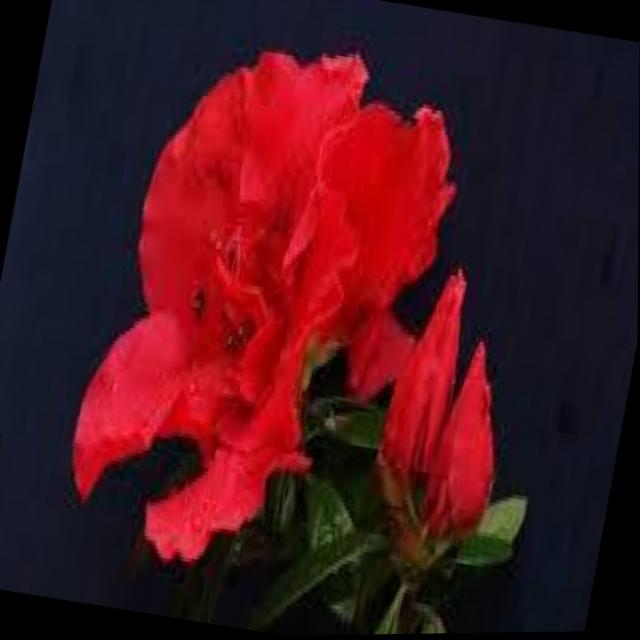Flower: (45, 2, 479, 581)
